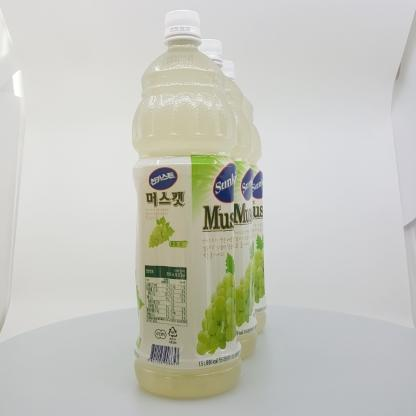-------1-5L: (131, 10, 242, 398)
